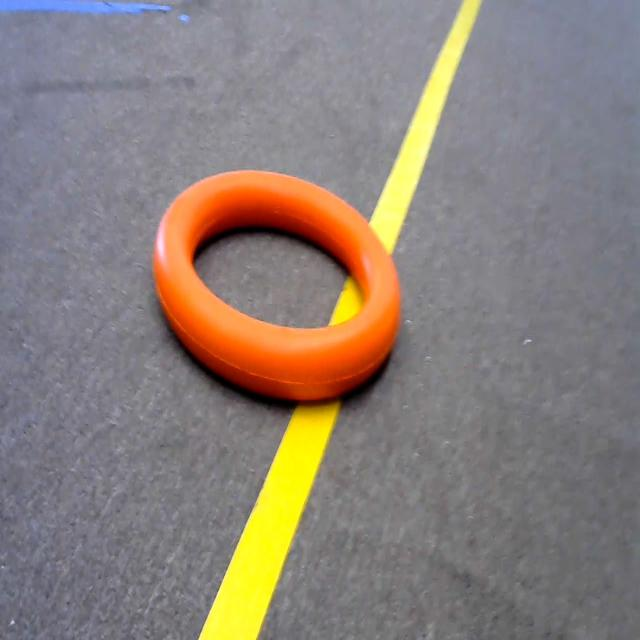note: (133, 140, 452, 432)
